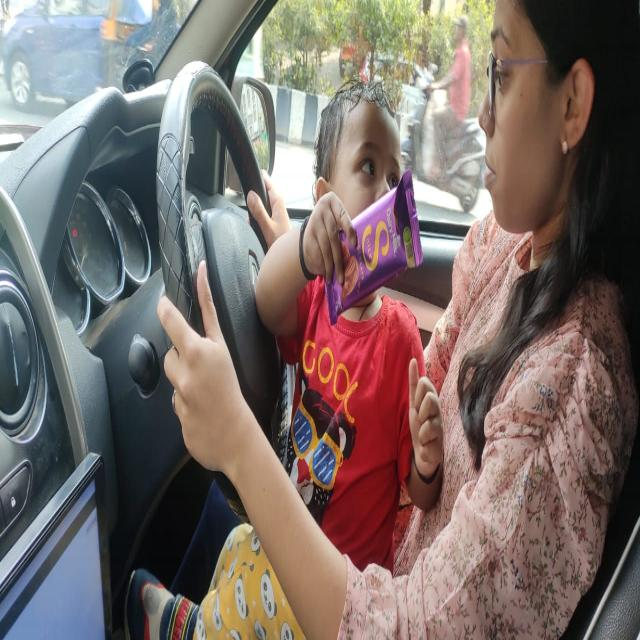child: (312, 74, 422, 320)
person: (476, 0, 640, 293)
